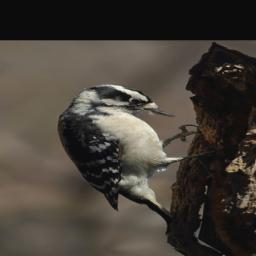Woodpecker: (30, 78, 252, 233)
